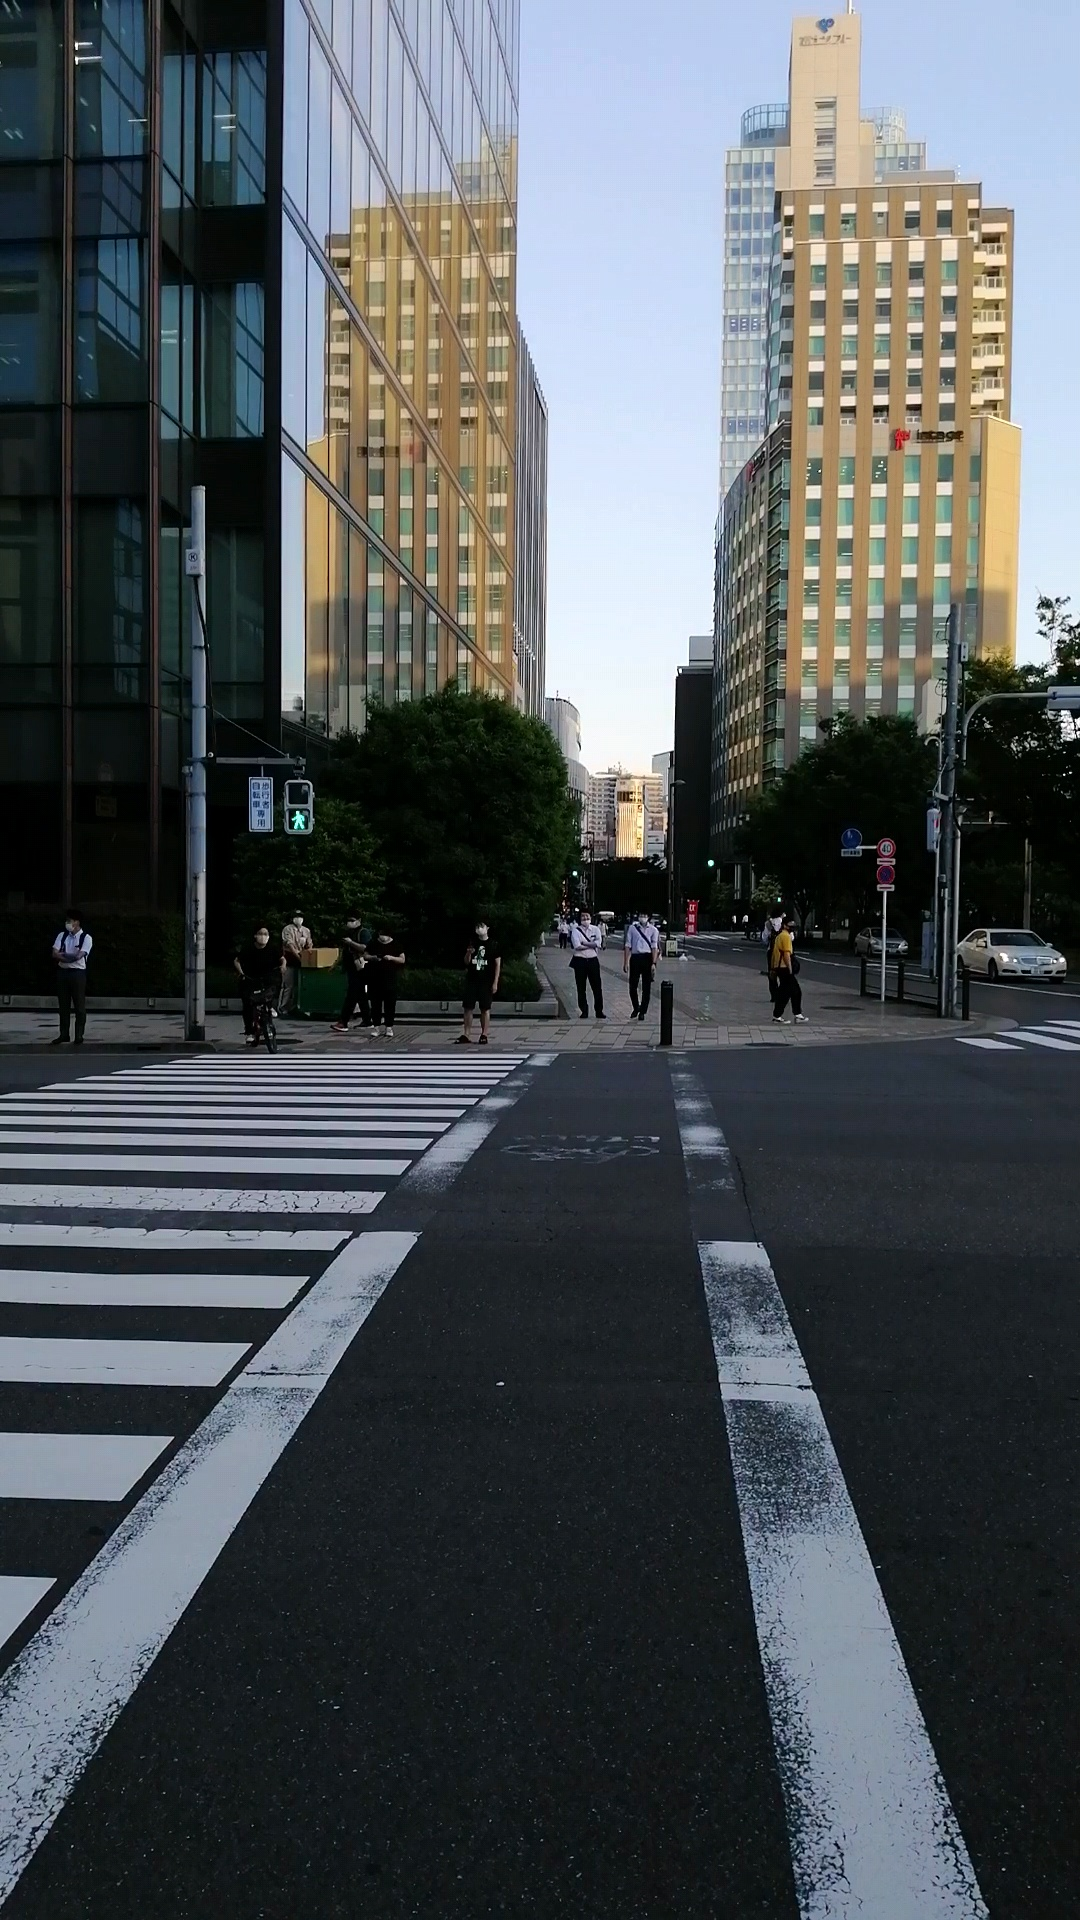green: (282, 778, 314, 833)
